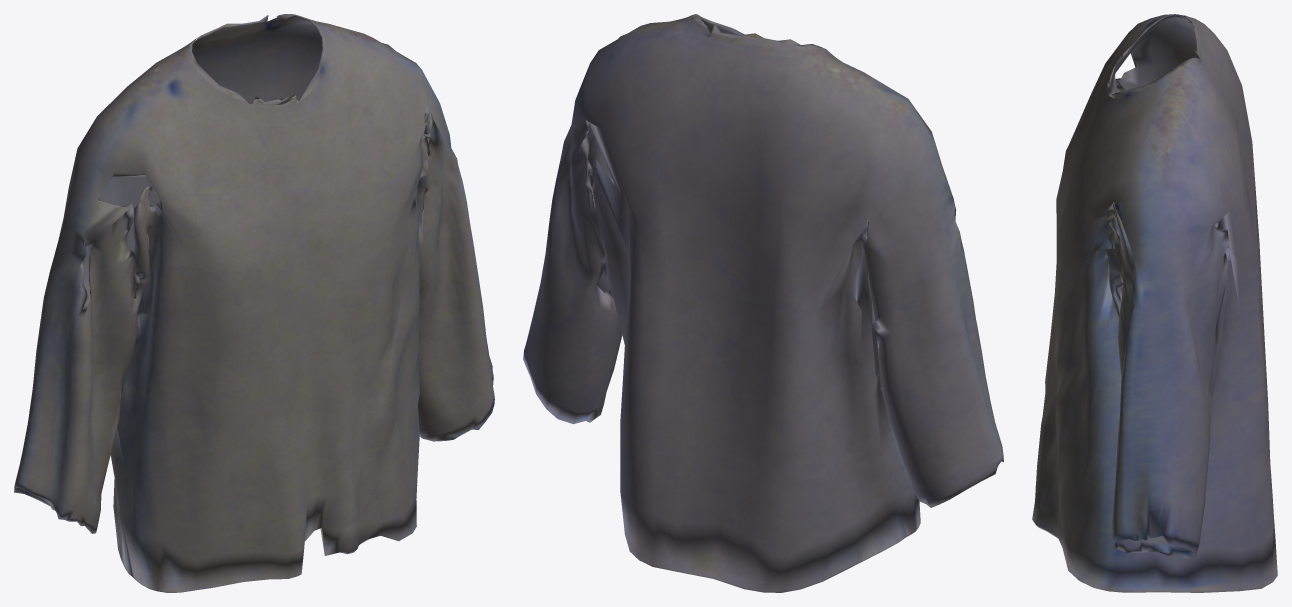
3 renders of one model, left to right at view 1: azimuth 30°, elevation 25°; view 2: azimuth 150°, elevation 25°; view 3: azimuth 270°, elevation 25°, orthographic.
Parts seen in each view (by area): view 1: file1; view 2: file1; view 3: file1.
Part boxes in pixels (x1,y1,x2,y2): file1: (14, 14, 494, 592); file1: (523, 14, 1003, 592); file1: (1032, 14, 1277, 592).
Bounding box in the file's own units: 1.9 × 1.99 × 0.8553.
Materials: 1 (1 with a texture image).
